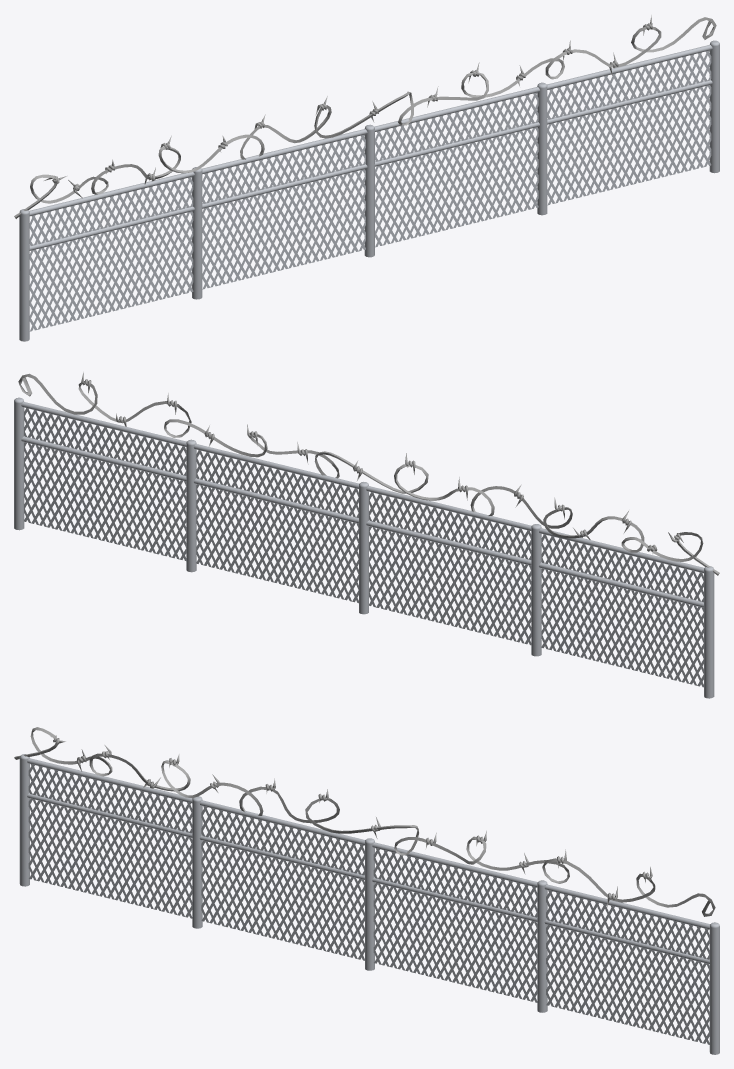
Rendered from SM_Wires.fbx.
3 views of the same model, one above another, from view 1: azimuth 30°, elevation 25°; view 2: azimuth 150°, elevation 25°; view 3: azimuth 330°, elevation 25° (orthographic).
Parts seen in each view (by area): view 1: SM_Wires; view 2: SM_Wires; view 3: SM_Wires.
Boxes of the visible parts, left/top/right/bottom form: SM_Wires: left=14, top=15, right=719, bottom=341; SM_Wires: left=14, top=372, right=719, bottom=698; SM_Wires: left=14, top=727, right=719, bottom=1054.
Size of the model in its own units: 2094 by 491 by 69.88.
